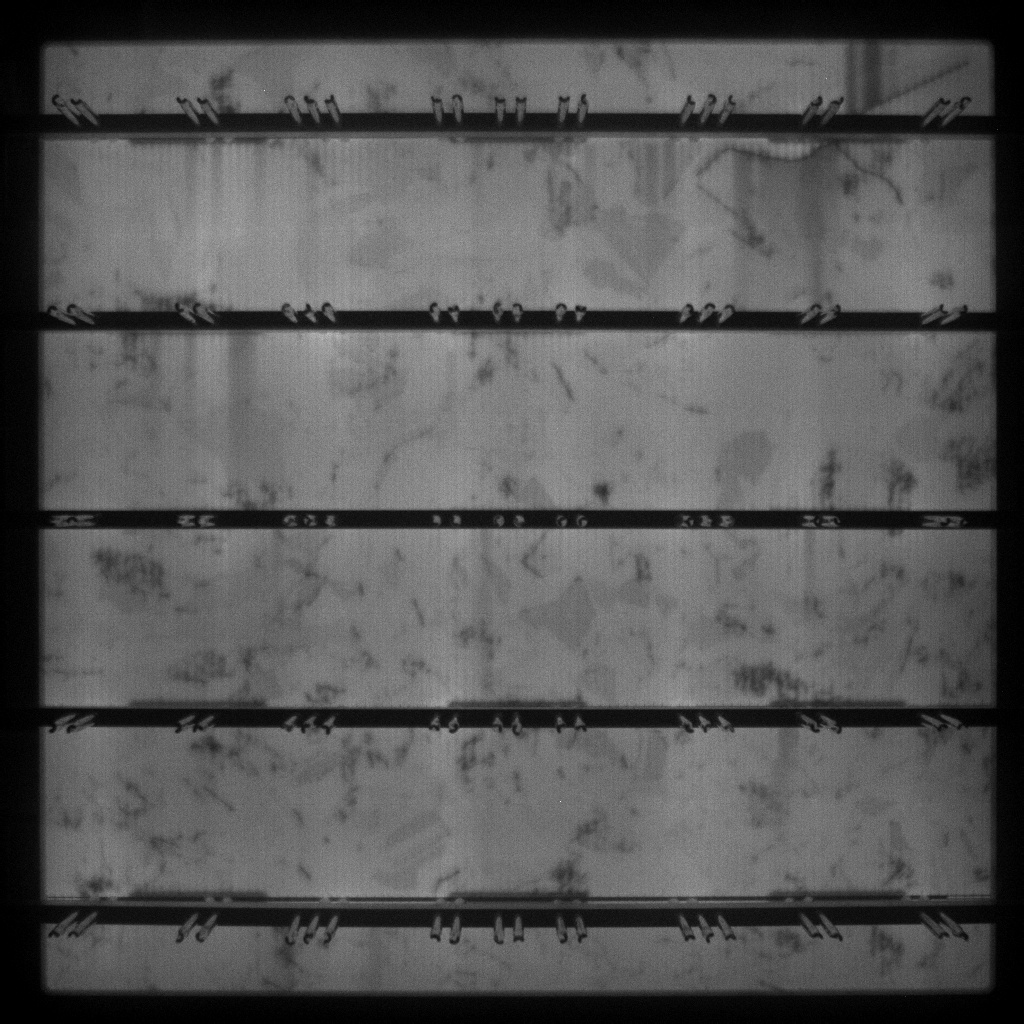crack: (697, 142, 906, 209), (861, 63, 974, 110)
